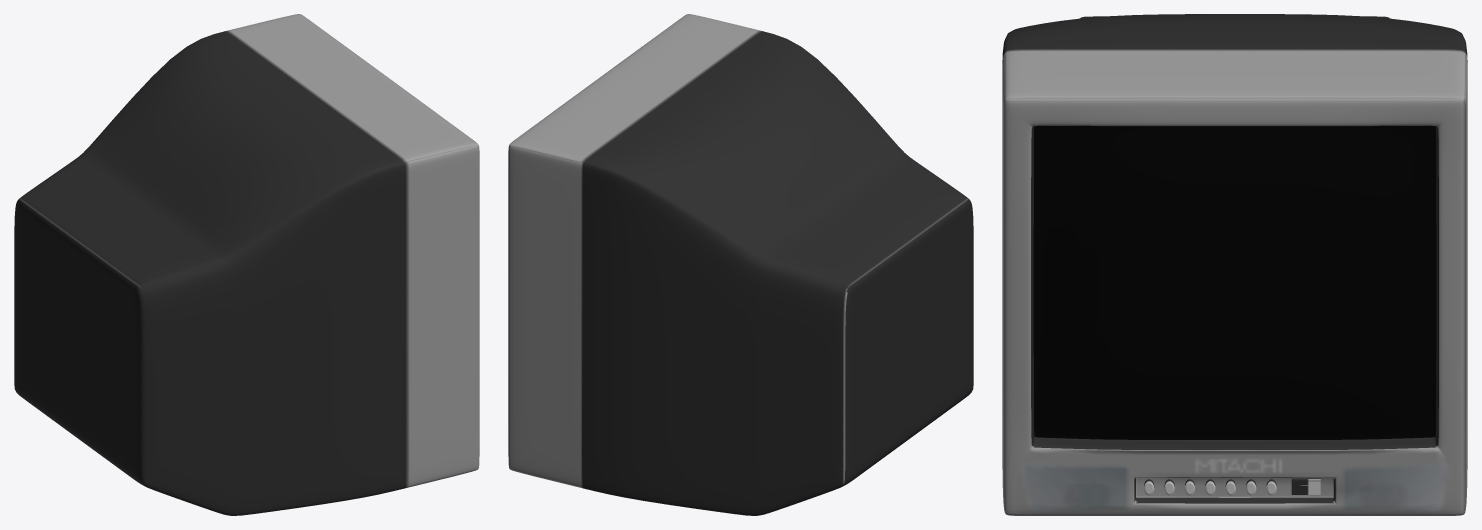
Rendered from mitachi_tv.glb.
3 renders of one model, left to right at view 1: azimuth 30°, elevation 25°; view 2: azimuth 150°, elevation 25°; view 3: azimuth 270°, elevation 25°, orthographic. The views are drawn at different scales.
Parts seen in each view (by area): view 1: Hichati_TV; view 2: Hichati_TV; view 3: Screen, Hichati_TV.
Boxes of the visible parts, x1,y1,x2,y2 form: Hichati_TV: (14, 14, 479, 515); Hichati_TV: (508, 14, 973, 515); Screen: (1033, 126, 1436, 439); Hichati_TV: (1002, 14, 1467, 515).
Bounding box in the file's own units: 2.01 × 2 × 2.
Materials: 2 (1 with a texture image).
